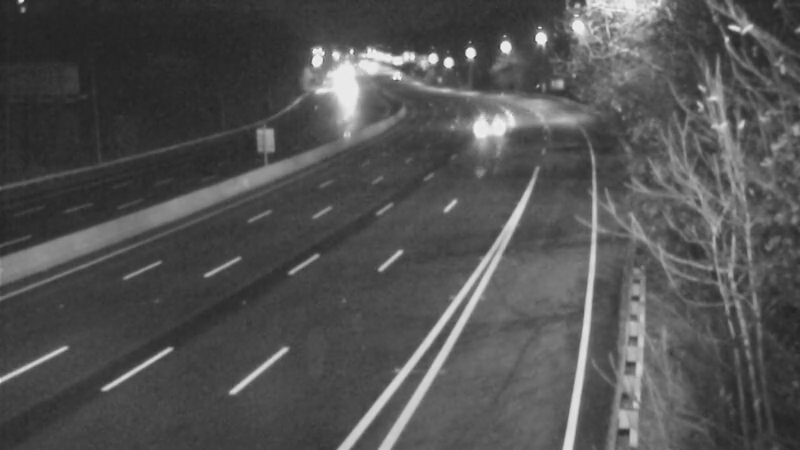vehicle: (372, 49, 422, 99), (465, 99, 515, 149)
